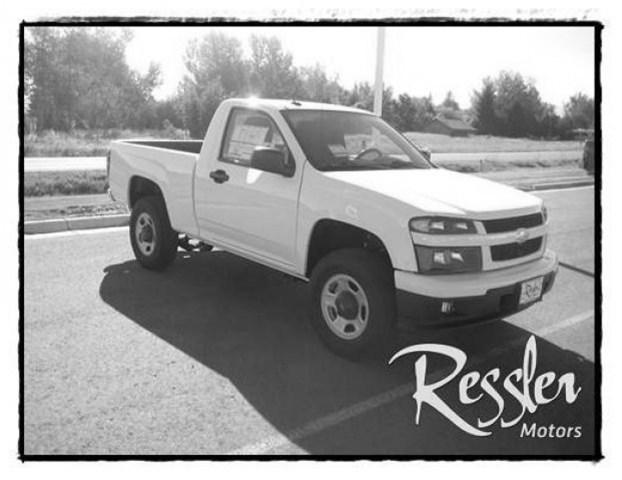car: (105, 92, 563, 361)
